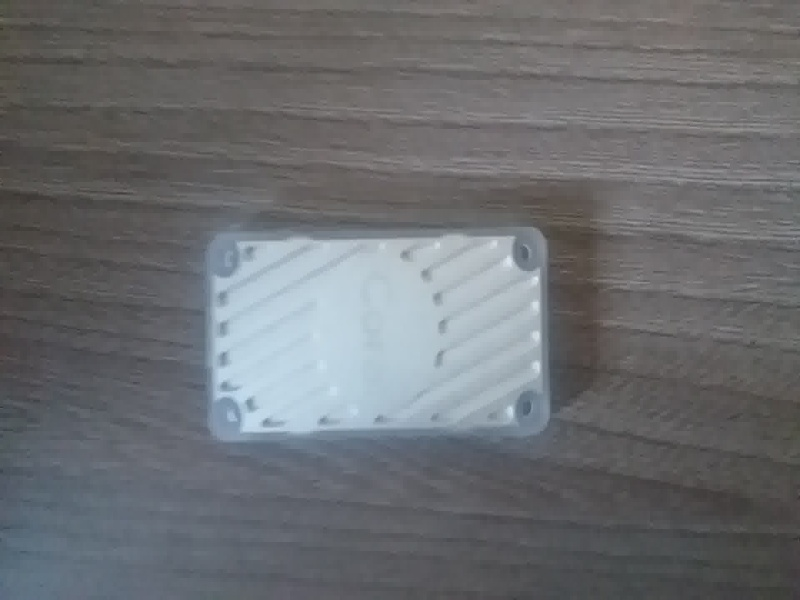coral: (192, 214, 567, 461)
